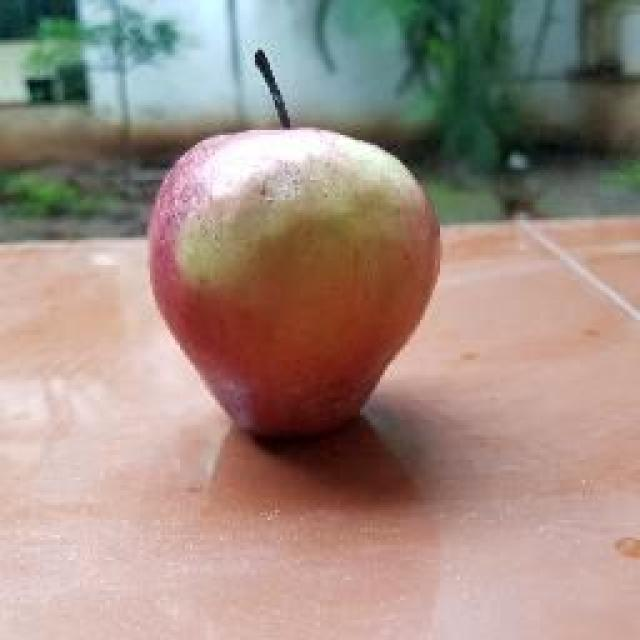Good_Apple: (148, 128, 442, 442)
